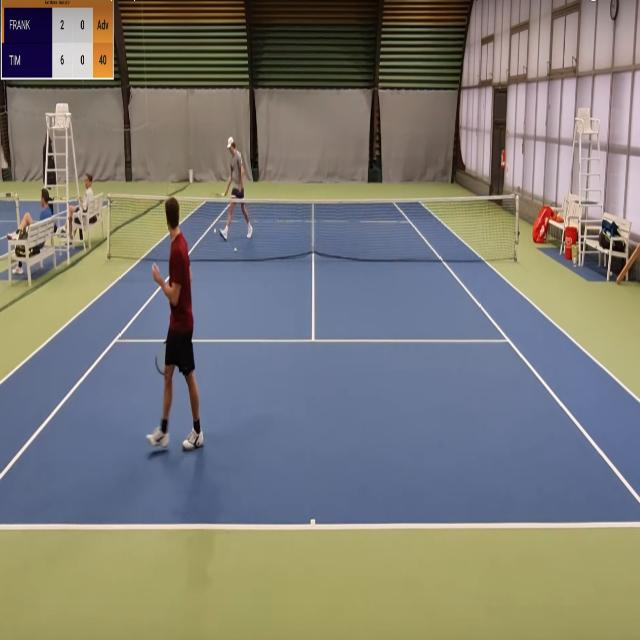ball: (234, 246, 238, 253), (214, 227, 216, 234)
